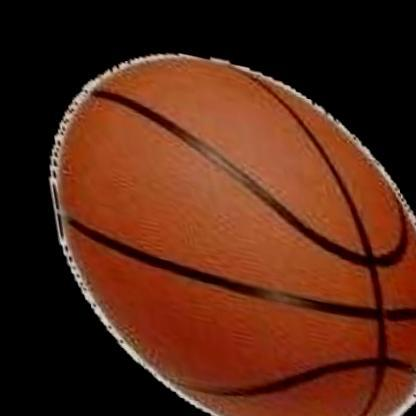basketball: (9, 4, 416, 416)
